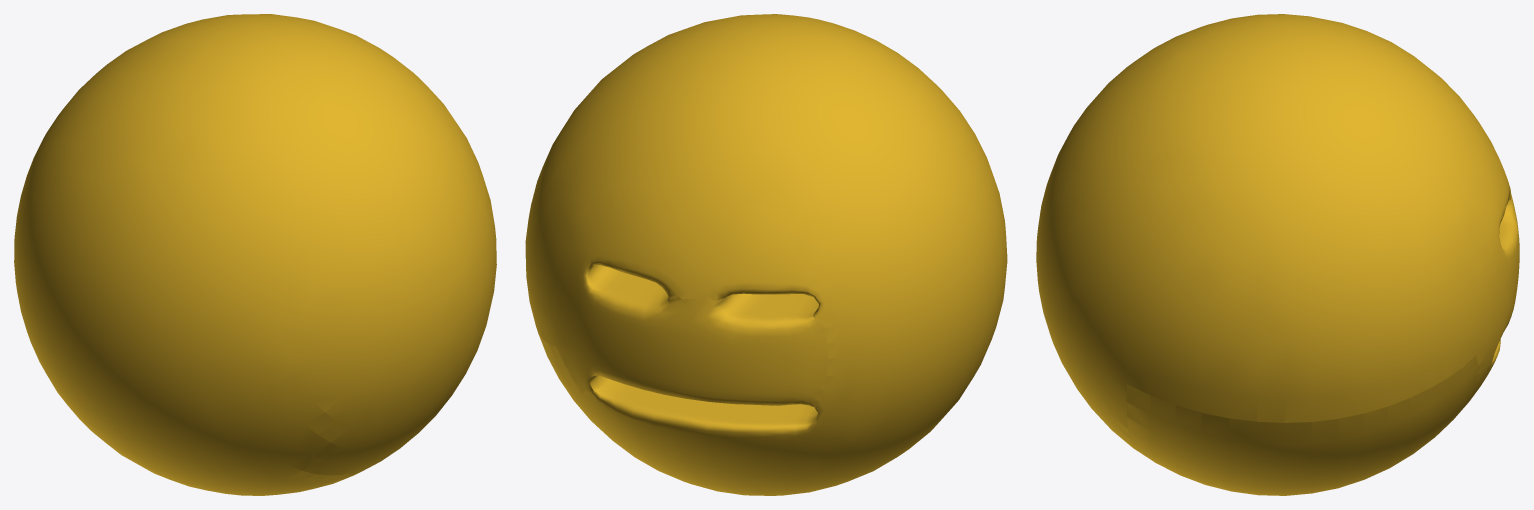
Rendered from expresionless 3DS.glb.
The picture shows the model from 3 angles, left to right: view 1: azimuth 30°, elevation 25°; view 2: azimuth 150°, elevation 25°; view 3: azimuth 270°, elevation 25°; orthographic projection.
Visible parts, largest first — view 1: Group22640; view 2: Group22640; view 3: Group22640.
Boxes of the visible parts, x1,y1,x2,y2 form: Group22640: (14, 14, 496, 495); Group22640: (525, 14, 1007, 495); Group22640: (1036, 14, 1519, 495).
Bounding box in the file's own units: 0.5579 × 0.5589 × 0.5614.
